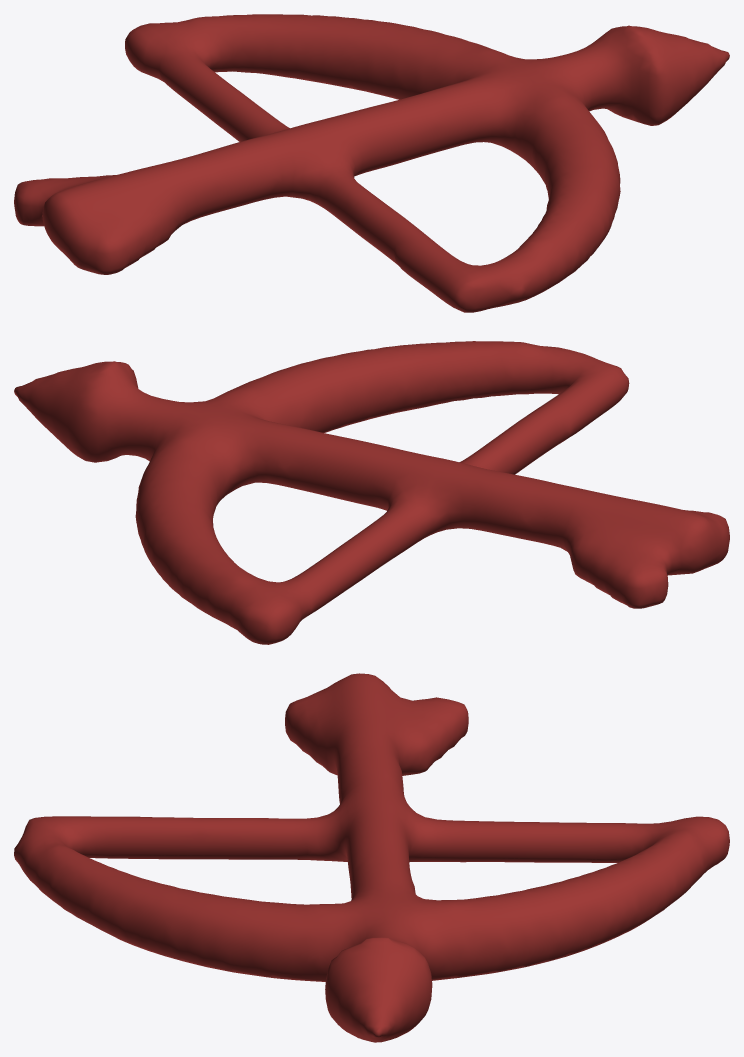
File: decoration-archer-draco.glb
The picture shows the model from 3 angles, top to bottom: view 1: azimuth 30°, elevation 25°; view 2: azimuth 150°, elevation 25°; view 3: azimuth 270°, elevation 25°; orthographic projection.
Visible parts, largest first — view 1: decoration_archer; view 2: decoration_archer; view 3: decoration_archer.
Part boxes in pixels (x1,y1,x2,y2): decoration_archer: (14, 14, 729, 312); decoration_archer: (14, 341, 729, 644); decoration_archer: (14, 673, 729, 1042).
Size of the model in its own units: 0.2139 by 0.0246 by 0.1916.
